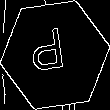P_S: (35, 28, 75, 82)
